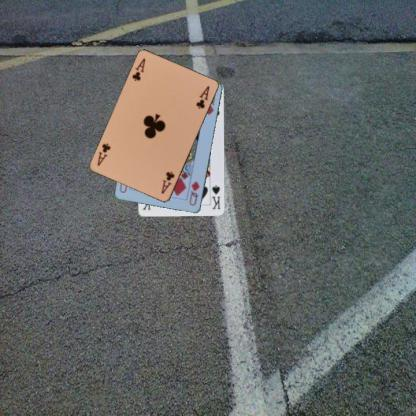Ac: (129, 56, 147, 83), (159, 169, 176, 195)
Ks: (210, 183, 221, 210)
Qd: (187, 178, 201, 207)
